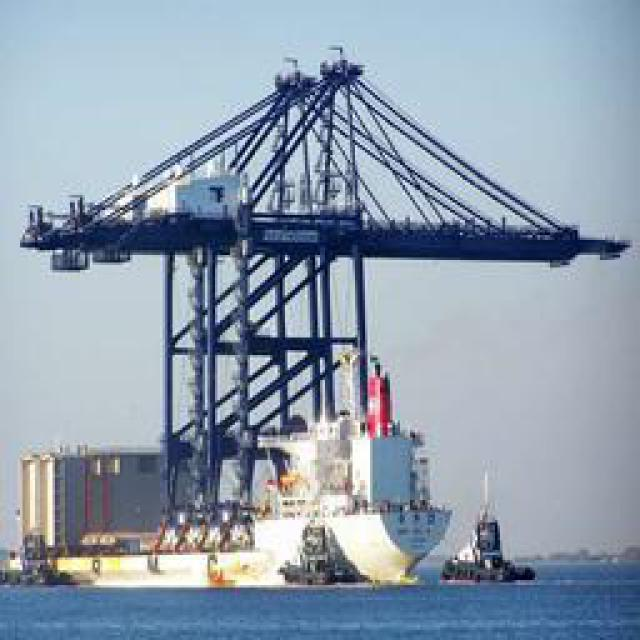Ship: (442, 464, 540, 584)
